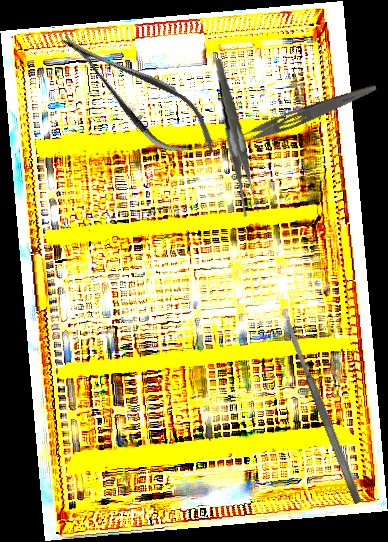Dressing Forceps: (218, 76, 379, 156), (199, 58, 275, 219)
Micro Scissor: (47, 13, 230, 176)
Spatula Surgical: (282, 318, 364, 505)
